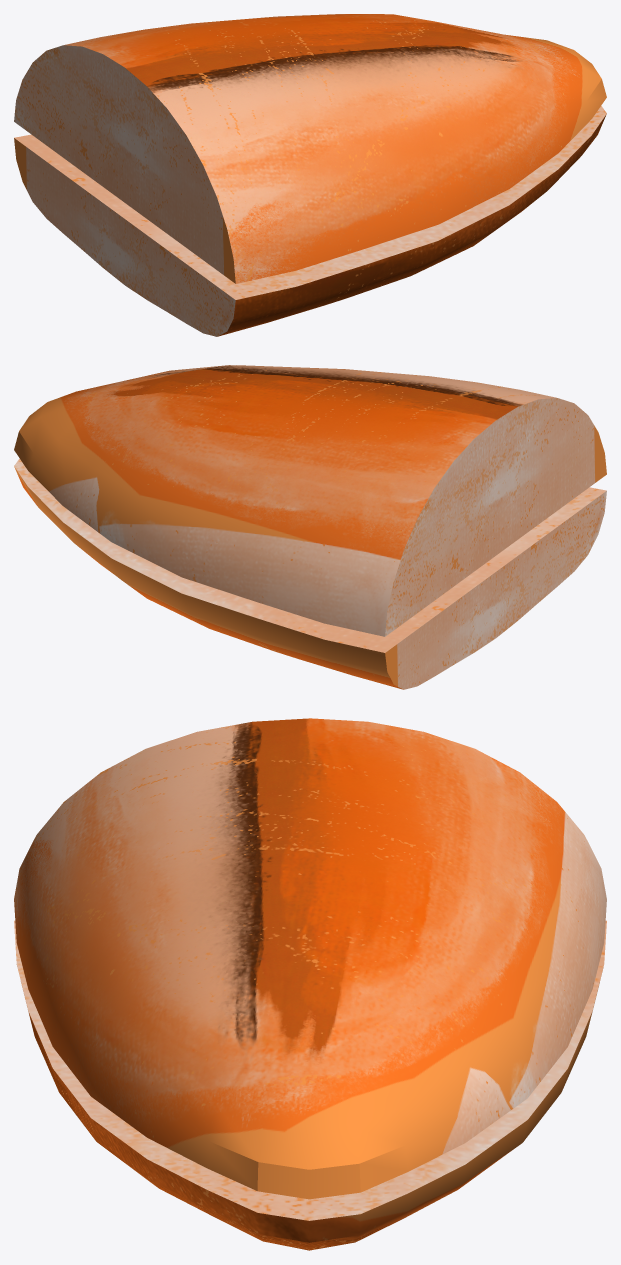
File: ekmek_yarim_kapali.fbx
3 renders of one model, top to bottom at view 1: azimuth 30°, elevation 25°; view 2: azimuth 150°, elevation 25°; view 3: azimuth 270°, elevation 25°, orthographic. The views are drawn at different scales.
Visible parts, largest first — view 1: Sphere.004, Sphere.005; view 2: Sphere.004, Sphere.005; view 3: Sphere.004, Sphere.005.
Boxes of the visible parts, <box> form: Sphere.004: <box>14,14,606,283</box>; Sphere.005: <box>14,106,606,336</box>; Sphere.004: <box>14,365,606,636</box>; Sphere.005: <box>14,458,606,689</box>; Sphere.004: <box>14,718,606,1199</box>; Sphere.005: <box>14,920,606,1250</box>.
Size of the model in its own units: 145 by 64.98 by 118.
